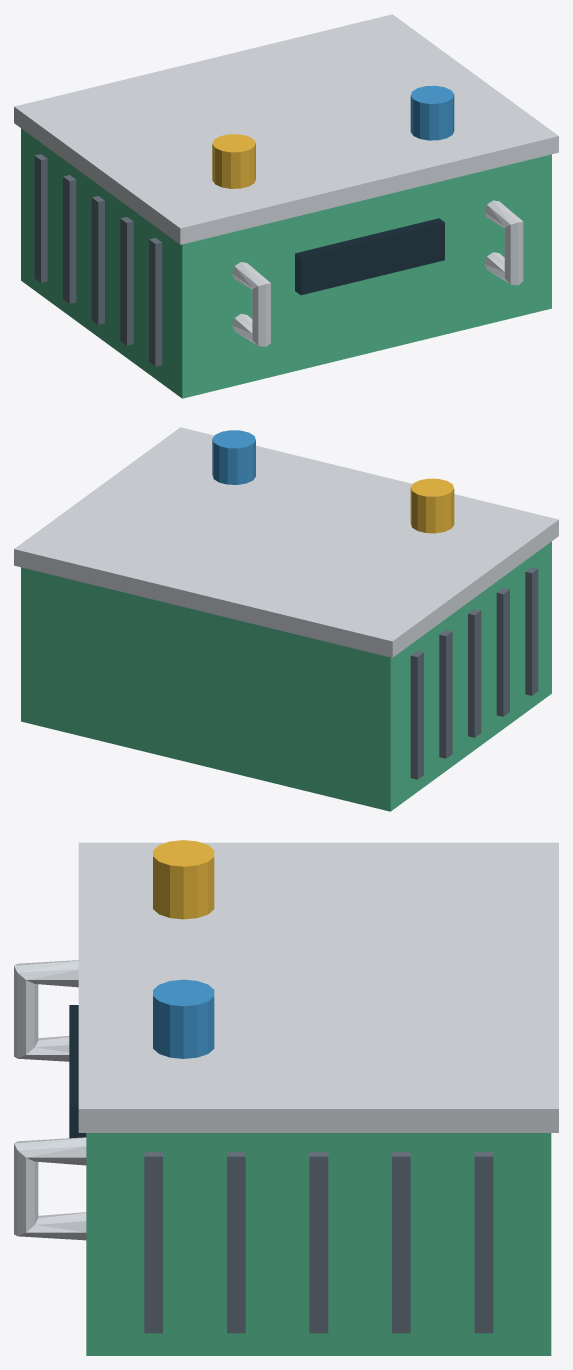
File: ENERGY-011.glb
3 views of the same model, one above another, from view 1: azimuth 30°, elevation 25°; view 2: azimuth 150°, elevation 25°; view 3: azimuth 270°, elevation 25° (orthographic). The views are drawn at different scales.
Parts seen in each view (by area): view 1: ENERGY-011; view 2: ENERGY-011; view 3: ENERGY-011.
Part boxes in pixels (left/top/right/bottom): ENERGY-011: left=14, top=14, right=558, bottom=398; ENERGY-011: left=14, top=427, right=558, bottom=811; ENERGY-011: left=14, top=840, right=558, bottom=1355.
Size of the model in its own units: 0.85 by 0.445 by 0.7262.
